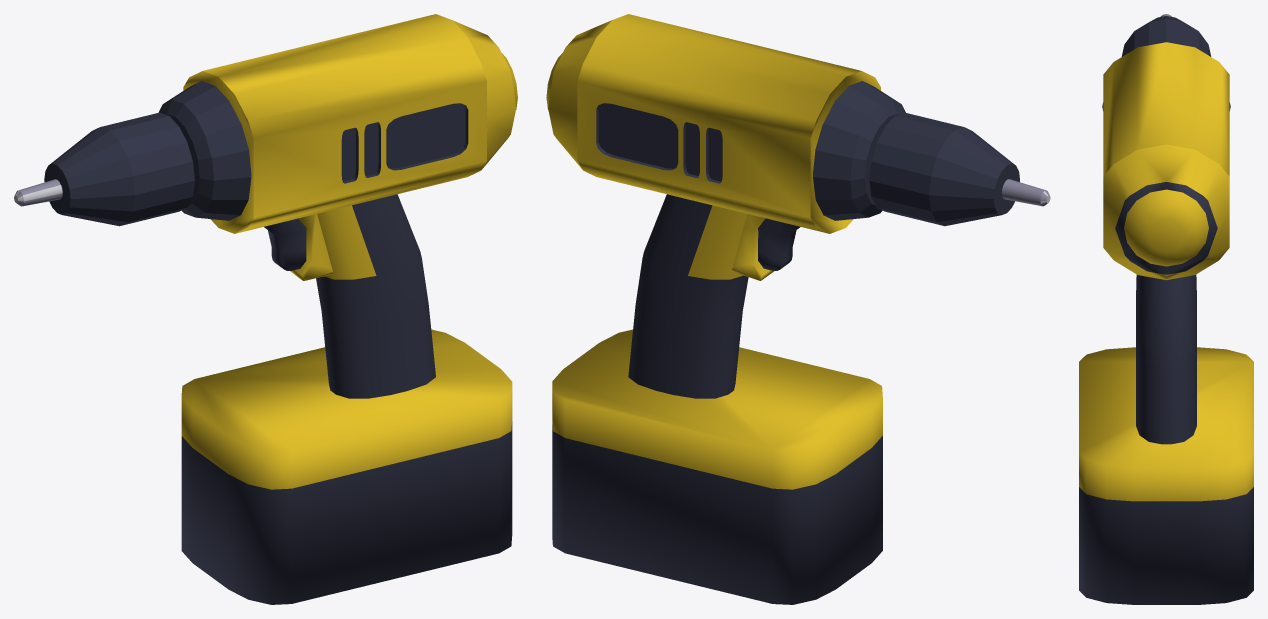
The model's file is drill.fbx.
3 renders of one model, left to right at view 1: azimuth 30°, elevation 25°; view 2: azimuth 150°, elevation 25°; view 3: azimuth 270°, elevation 25°, orthographic. The views are drawn at different scales.
Parts seen in each view (by area): view 1: Trigger_Main; view 2: Trigger_Main; view 3: Trigger_Main.
Boxes of the visible parts, x1,y1,x2,y2 form: Trigger_Main: (14, 14, 517, 604); Trigger_Main: (546, 14, 1050, 604); Trigger_Main: (1079, 14, 1253, 604).
Bounding box in the file's own units: 23.37 × 22.7 × 8.04.
